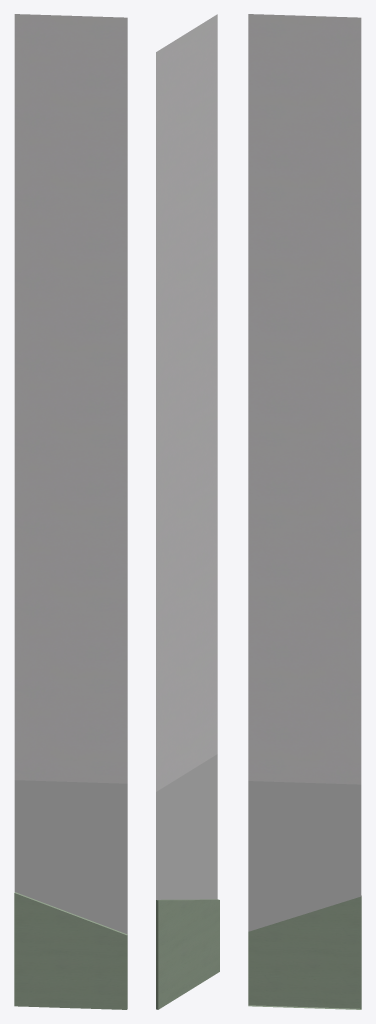
File: SM_Wall_Tiled_25.fbx
The picture shows the model from 3 angles, left to right: view 1: azimuth 90°, elevation 25°; view 2: azimuth 150°, elevation 25°; view 3: azimuth 270°, elevation 25°; orthographic projection. The views are drawn at different scales.
Parts seen in each view (by area): view 1: SM_Wall_Tiled_25; view 2: SM_Wall_Tiled_25; view 3: SM_Wall_Tiled_25.
Part boxes in pixels (bbox=[...]): SM_Wall_Tiled_25: bbox=[14, 14, 127, 1009]; SM_Wall_Tiled_25: bbox=[156, 14, 219, 1009]; SM_Wall_Tiled_25: bbox=[248, 14, 361, 1009].
Bounding box in the file's own units: 6.36 × 64.3 × 622.
